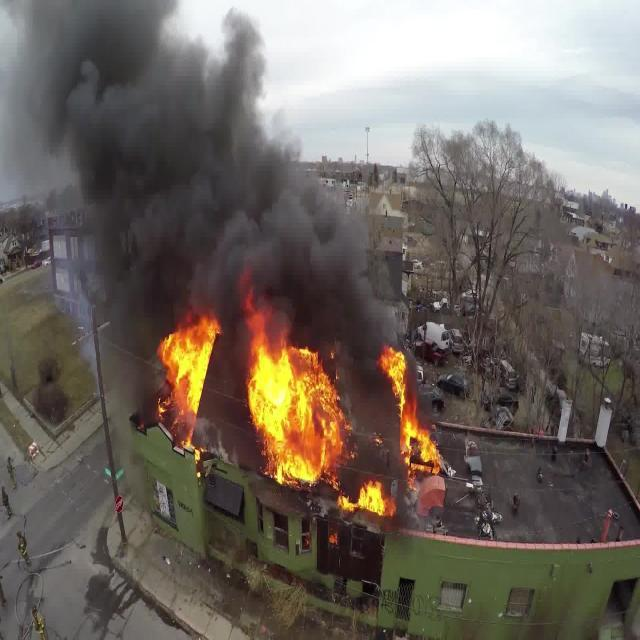Fire: (239, 294, 351, 482), (136, 308, 224, 445), (376, 348, 447, 471), (334, 482, 398, 524)
Smoke: (0, 0, 421, 338)
